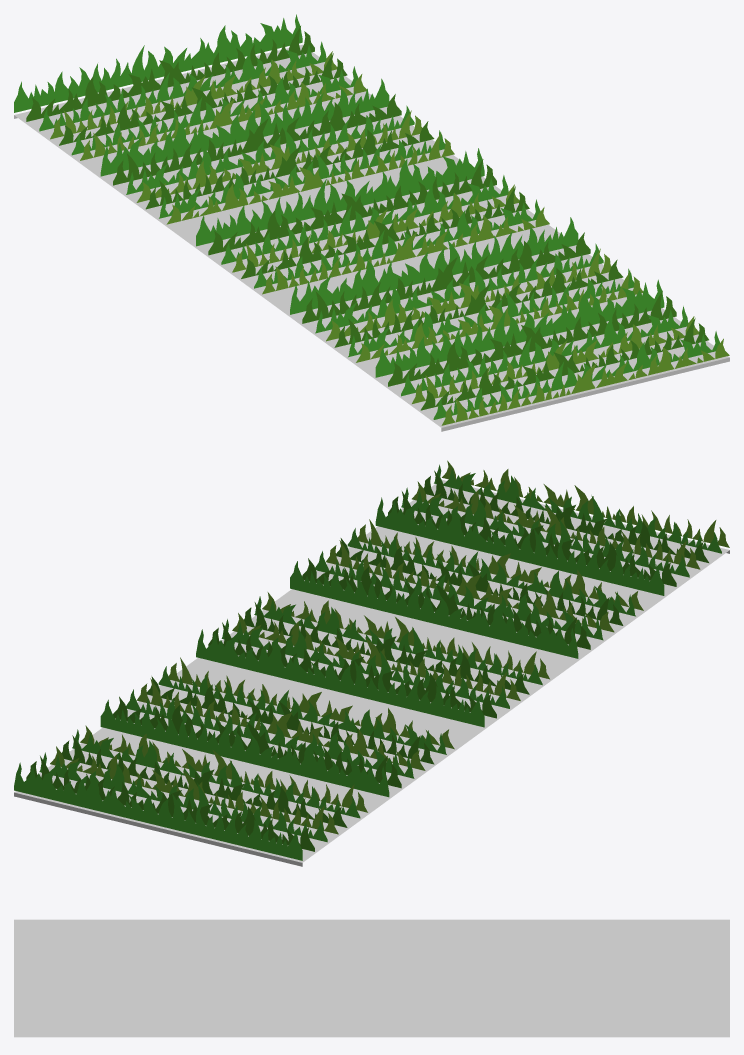
Rendered from ground_mg_01.fbx.
The picture shows the model from 3 angles, top to bottom: view 1: azimuth 30°, elevation 25°; view 2: azimuth 150°, elevation 25°; view 3: azimuth 270°, elevation 25°; orthographic projection. The views are drawn at different scales.
Parts seen in each view (by area): view 1: ground_mg_grass_01, ground_mg_01; view 2: ground_mg_grass_01, ground_mg_01; view 3: ground_mg_01.
Part boxes in pixels (left/top/right/bottom): ground_mg_grass_01: left=14, top=14, right=729, bottom=425; ground_mg_01: left=14, top=44, right=729, bottom=431; ground_mg_grass_01: left=14, top=460, right=729, bottom=860; ground_mg_01: left=14, top=480, right=729, bottom=866; ground_mg_01: left=14, top=919, right=729, bottom=1037.
Bounding box in the file's own units: 595 × 83.63 × 1528.
